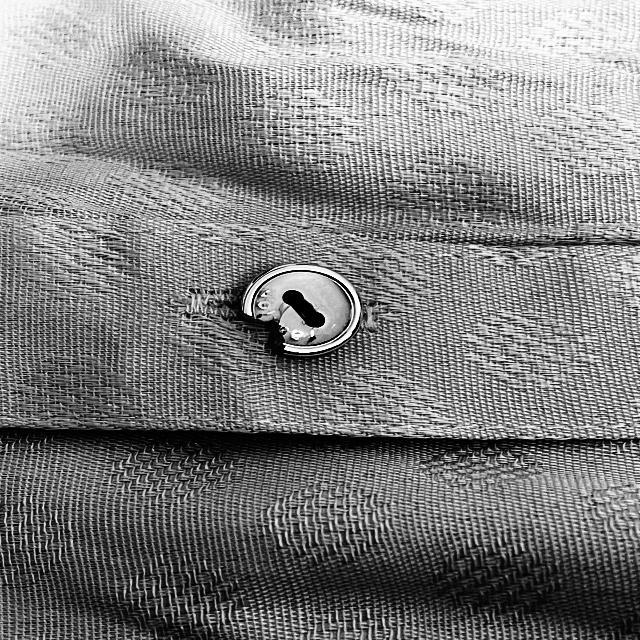Broken_button: (225, 254, 375, 368)
